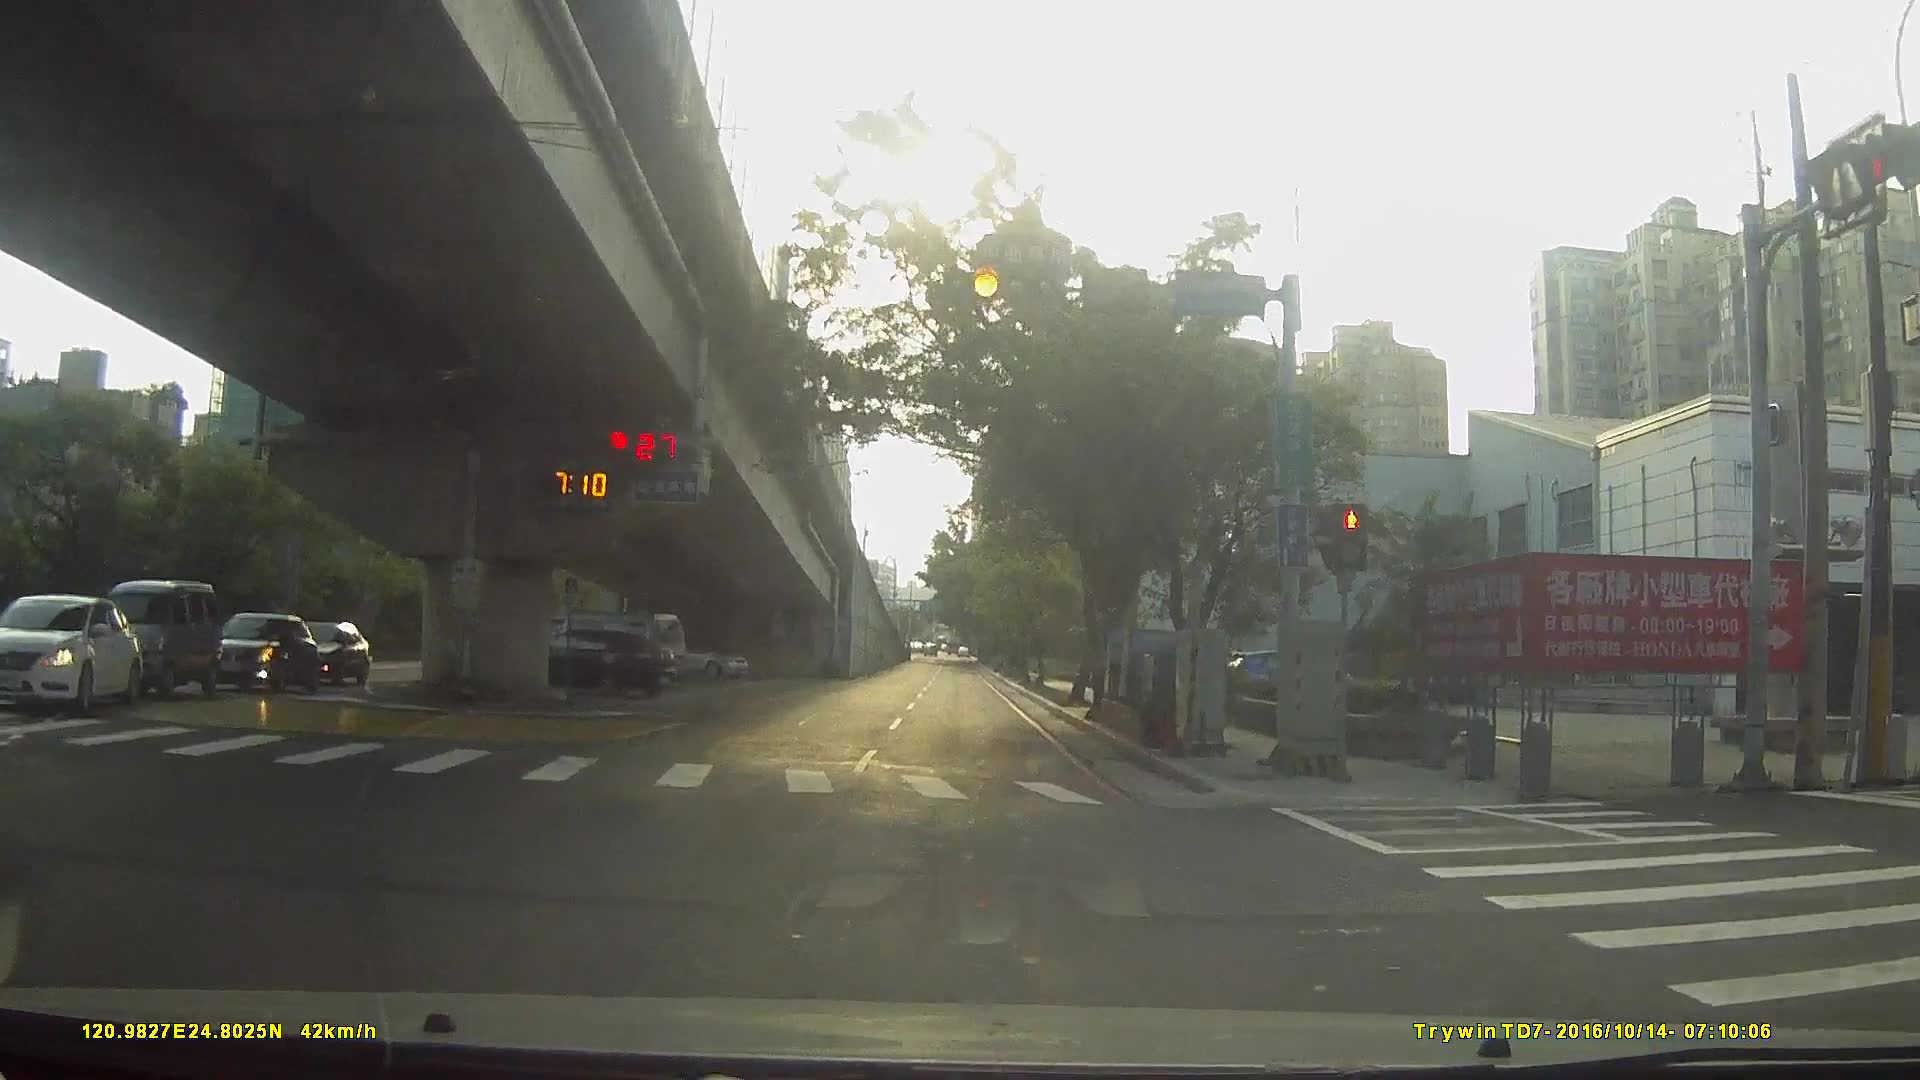vehicle: (1, 596, 154, 715), (90, 578, 211, 699), (508, 626, 673, 698), (193, 609, 313, 694), (274, 618, 368, 683), (653, 637, 749, 682)
